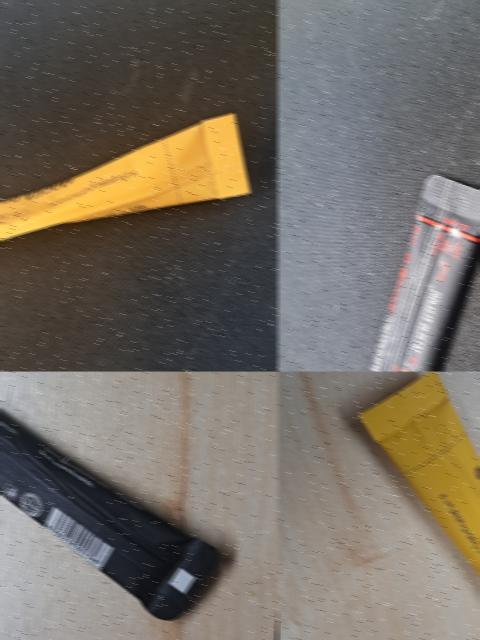KANU: (344, 145, 480, 371)
espresso_mini: (0, 371, 248, 640)
mix_coffee: (0, 71, 269, 328), (325, 371, 480, 640)
